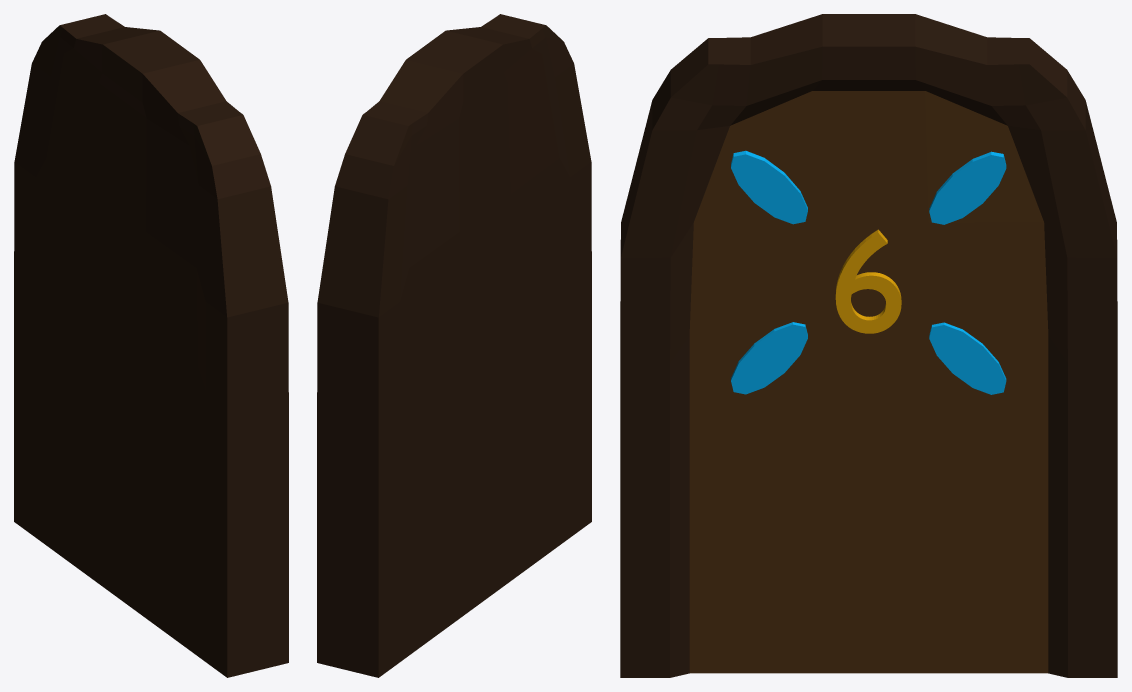
Rendered from Door6.glb.
3 renders of one model, left to right at view 1: azimuth 30°, elevation 25°; view 2: azimuth 150°, elevation 25°; view 3: azimuth 270°, elevation 25°, orthographic. The views are drawn at different scales.
Visible parts, largest first — view 1: door1; view 2: door1; view 3: door1, Text.
Boxes of the visible parts, bbox=[...] form: door1: bbox=[14, 14, 288, 677]; door1: bbox=[317, 14, 591, 677]; door1: bbox=[620, 14, 1117, 677]; Text: bbox=[835, 229, 901, 333].
Size of the model in its own units: 0.3892 by 3.27 by 2.34.
